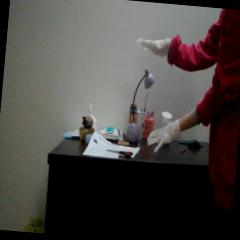gloved: (147, 118, 180, 156), (135, 35, 170, 58)
